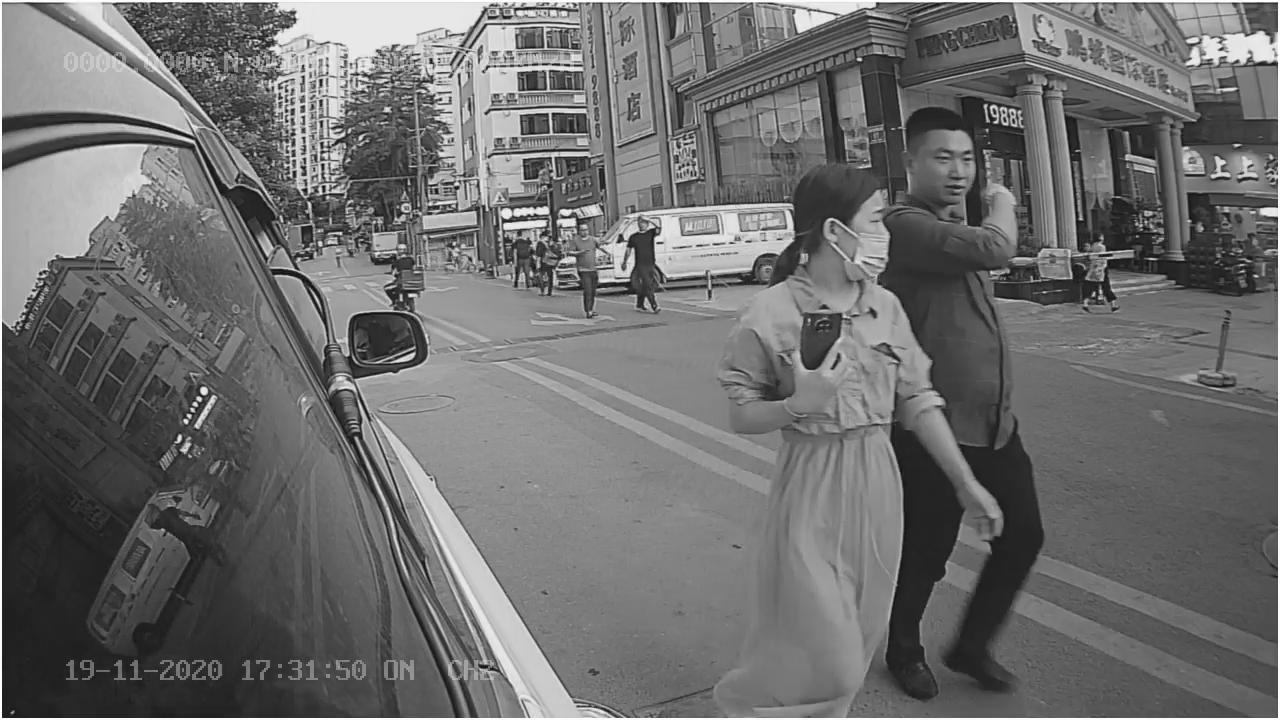person: (730, 167, 907, 662)
